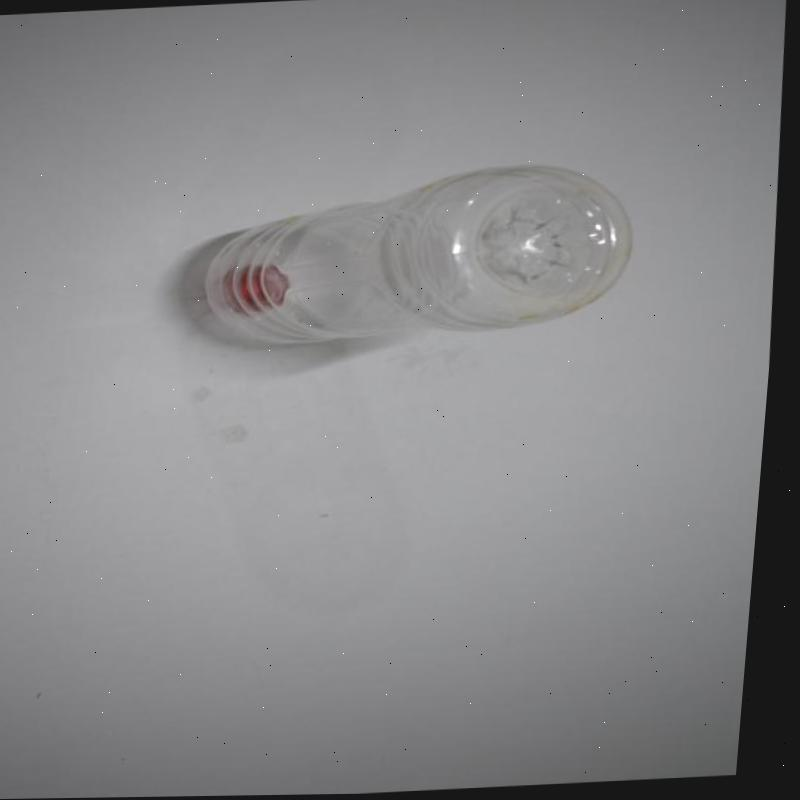botella: (197, 153, 648, 352)
